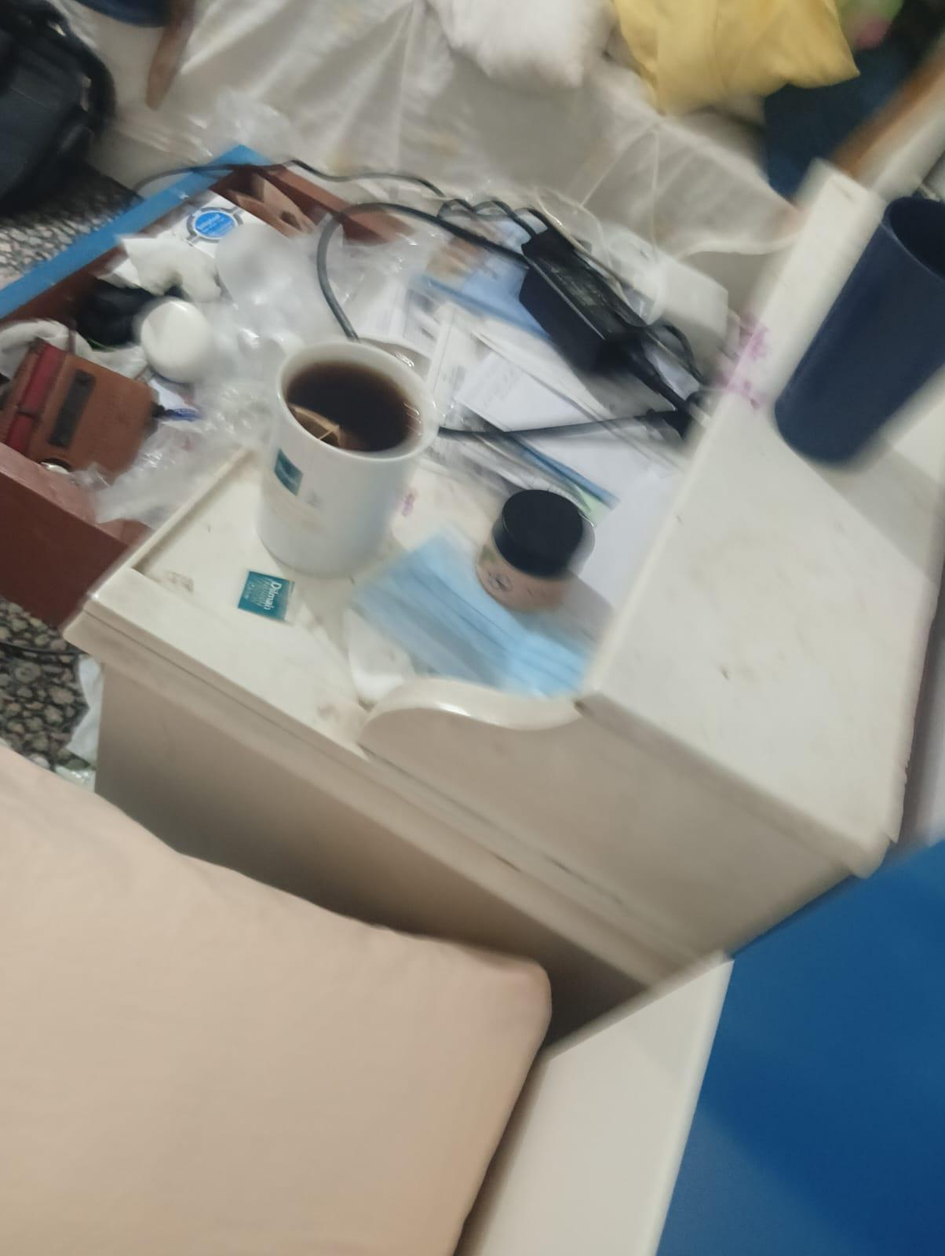cup: (774, 195, 944, 464), (257, 341, 437, 577), (281, 345, 422, 460)
